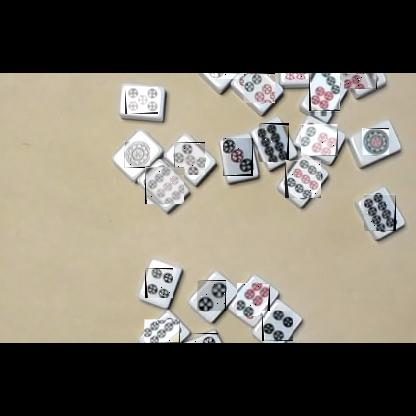1p: (362, 128, 389, 155), (124, 141, 150, 168)
2p: (197, 280, 226, 311), (209, 73, 239, 79)
3p: (223, 138, 253, 176), (188, 333, 218, 343)
4p: (262, 311, 293, 341), (145, 268, 173, 298)
5p: (174, 142, 205, 175), (125, 87, 158, 114)
6p: (301, 124, 338, 156), (237, 283, 270, 316), (243, 73, 275, 103), (282, 73, 308, 79)
7p: (309, 74, 340, 116), (344, 73, 377, 89)
8p: (258, 123, 289, 162), (364, 194, 396, 231), (144, 319, 180, 343)
9p: (145, 167, 184, 204), (285, 160, 321, 198)
